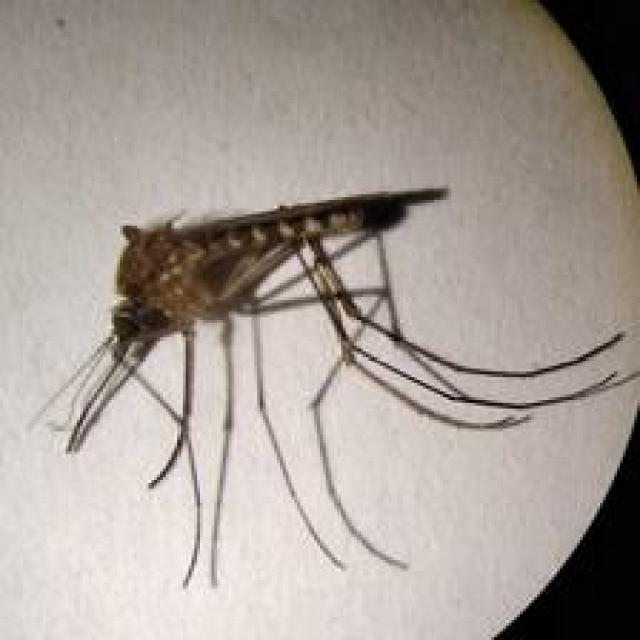Culex: (25, 184, 640, 589)
